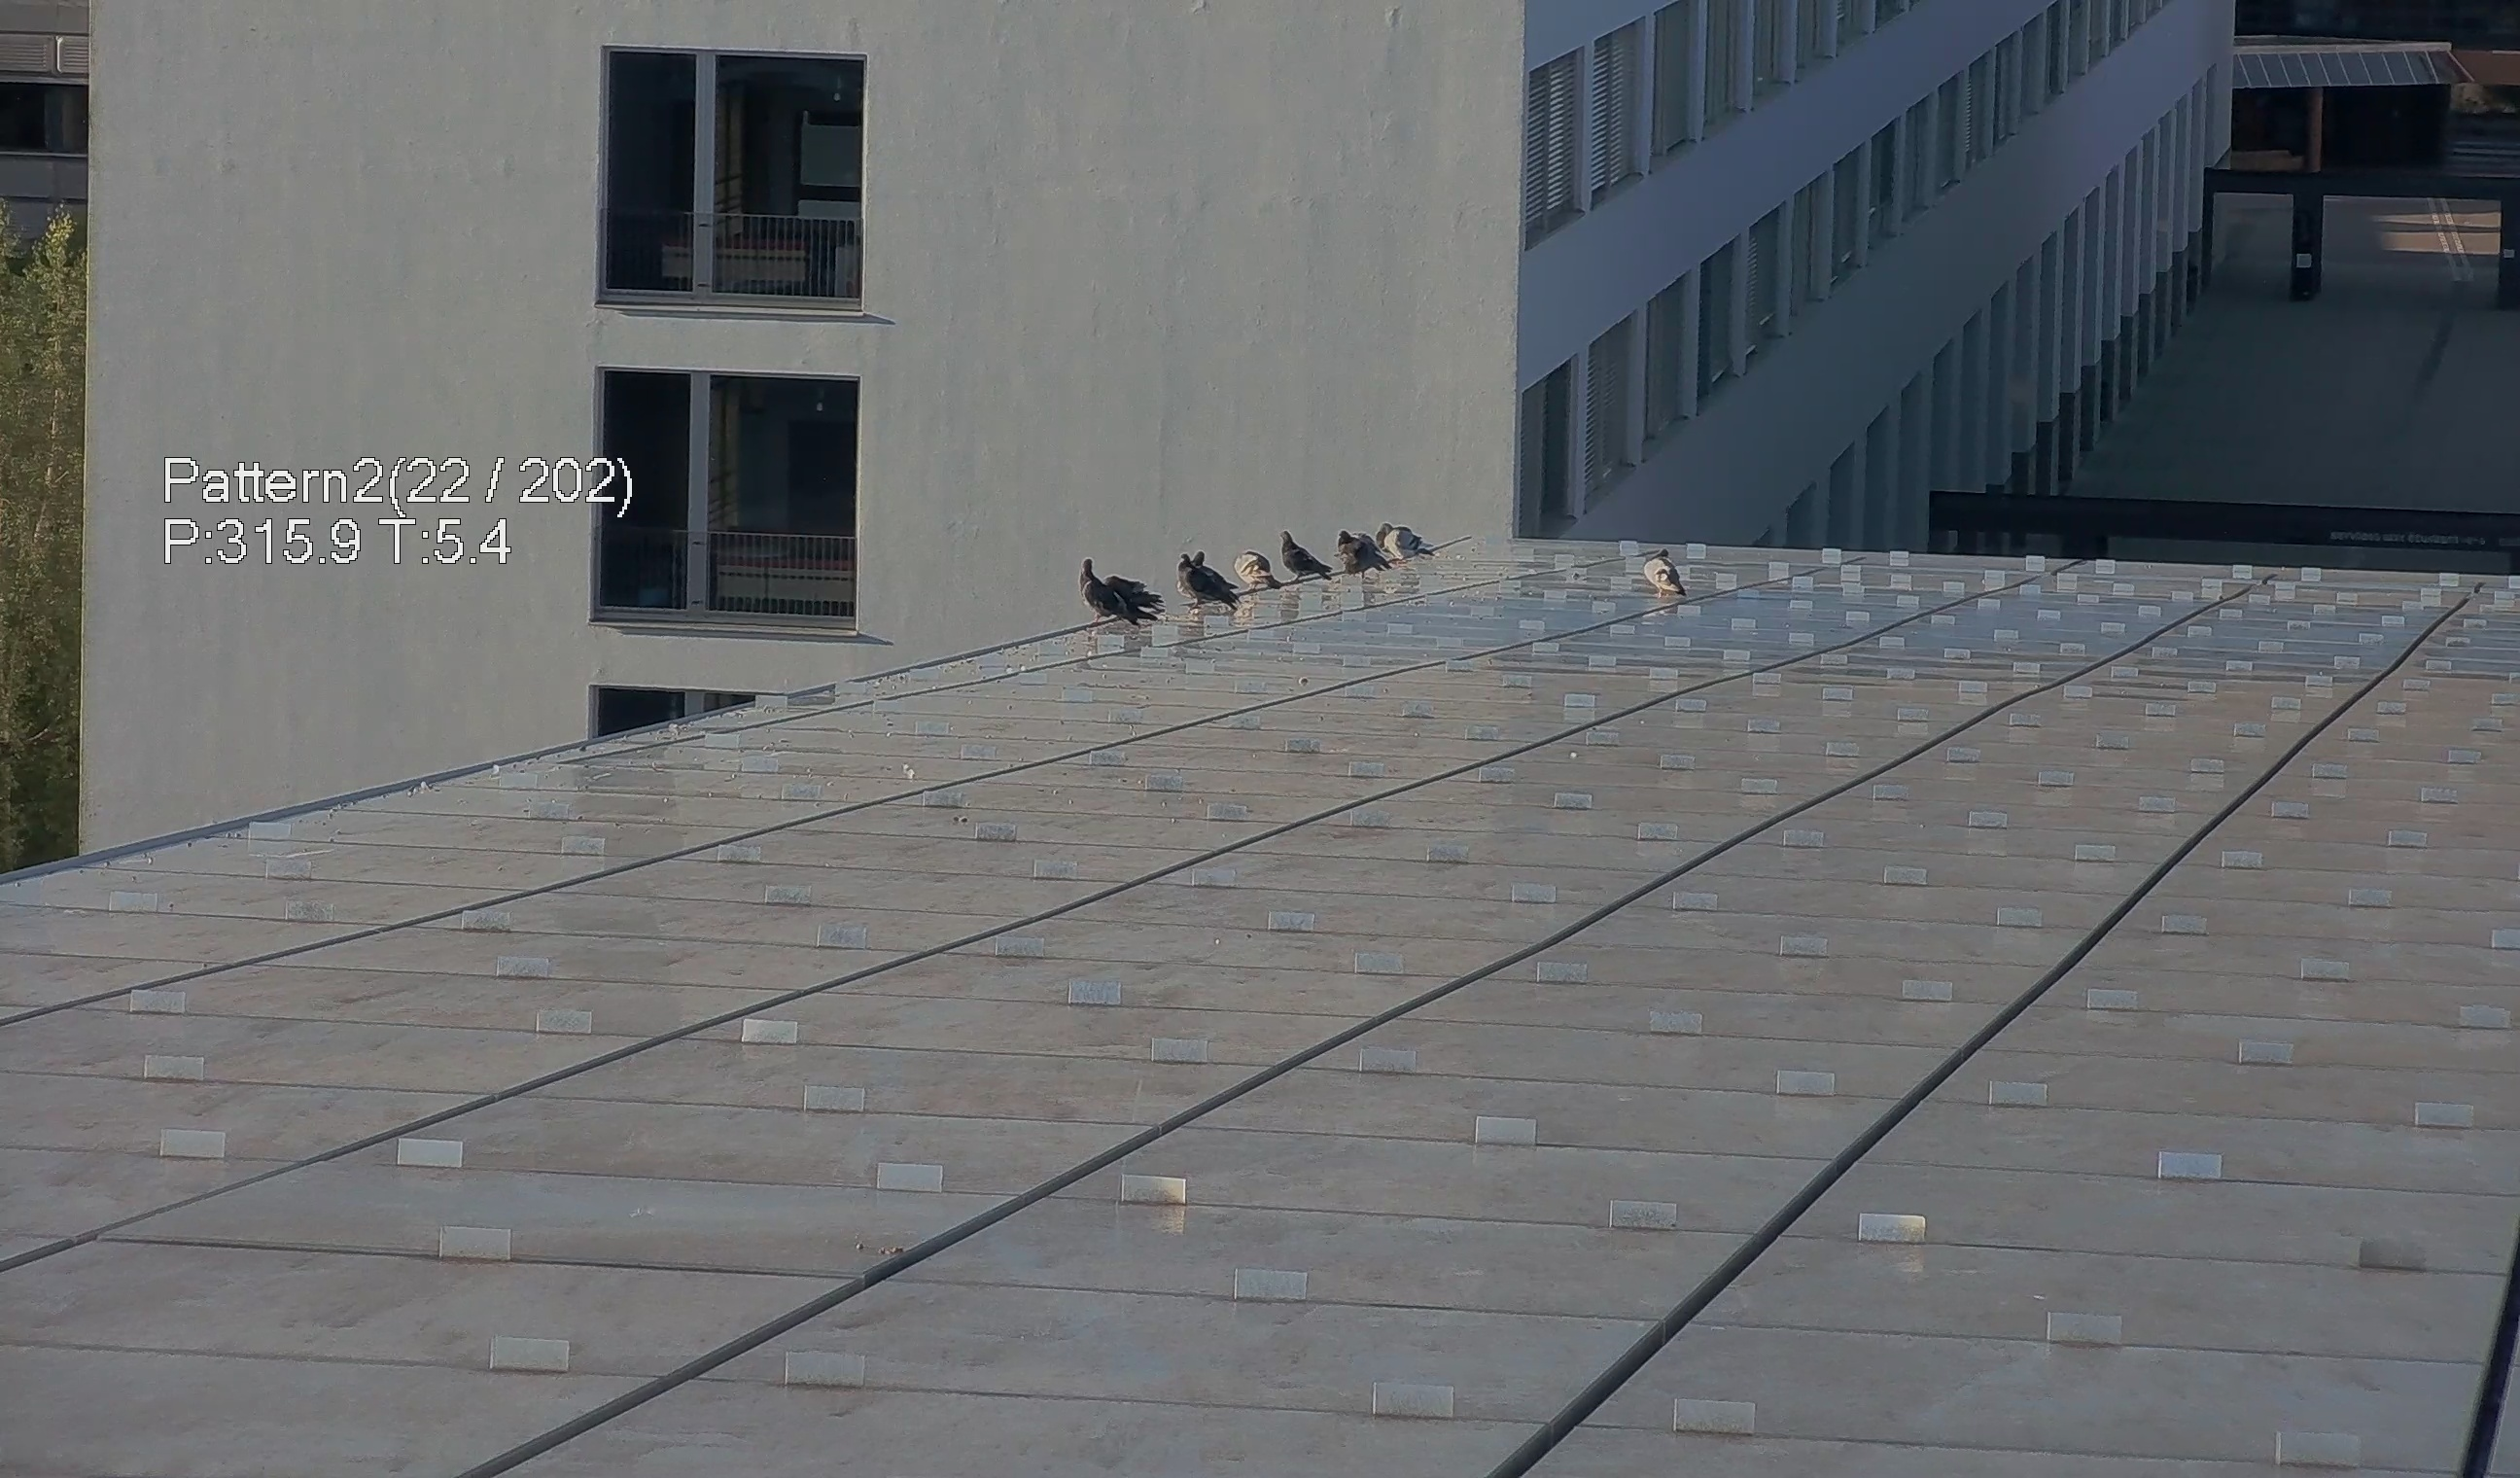Pigeon: (1071, 551, 1157, 637), (1175, 554, 1250, 619), (1639, 545, 1695, 605), (1280, 528, 1335, 588), (1335, 519, 1386, 579), (1372, 519, 1435, 567), (1229, 549, 1285, 591)
